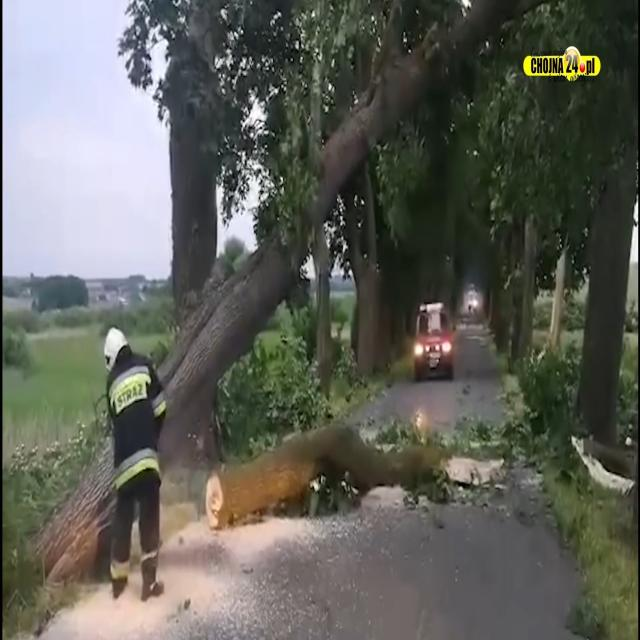fallen_tree: (197, 414, 450, 541)
